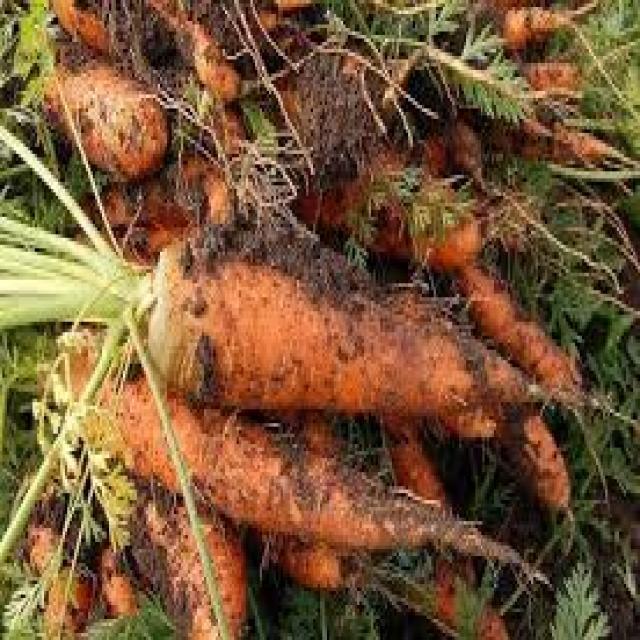Stale_Carrot: (108, 243, 569, 576)
